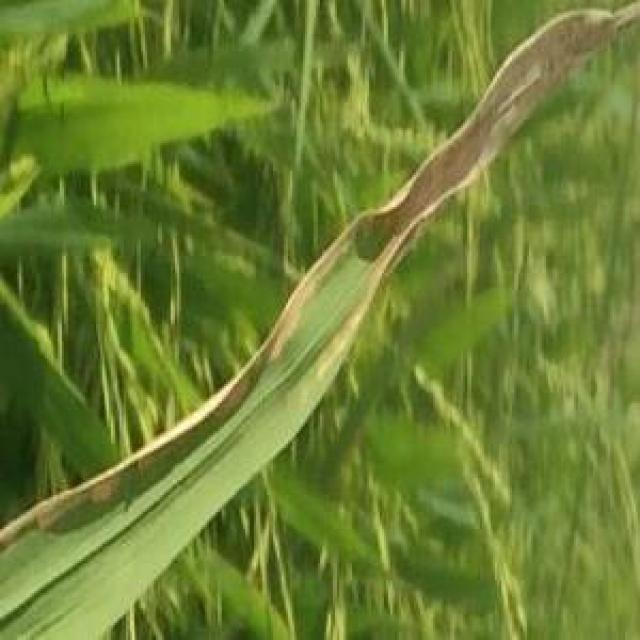leaf blight: (42, 235, 346, 531), (350, 2, 631, 282)
